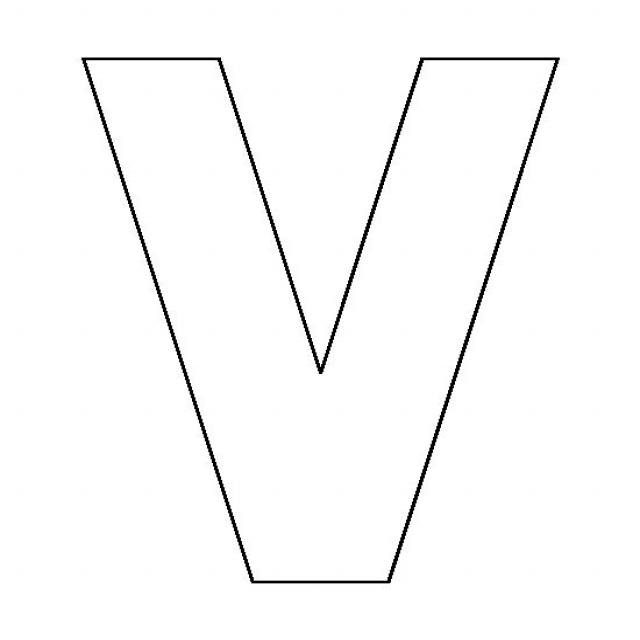V: (50, 19, 564, 618)
